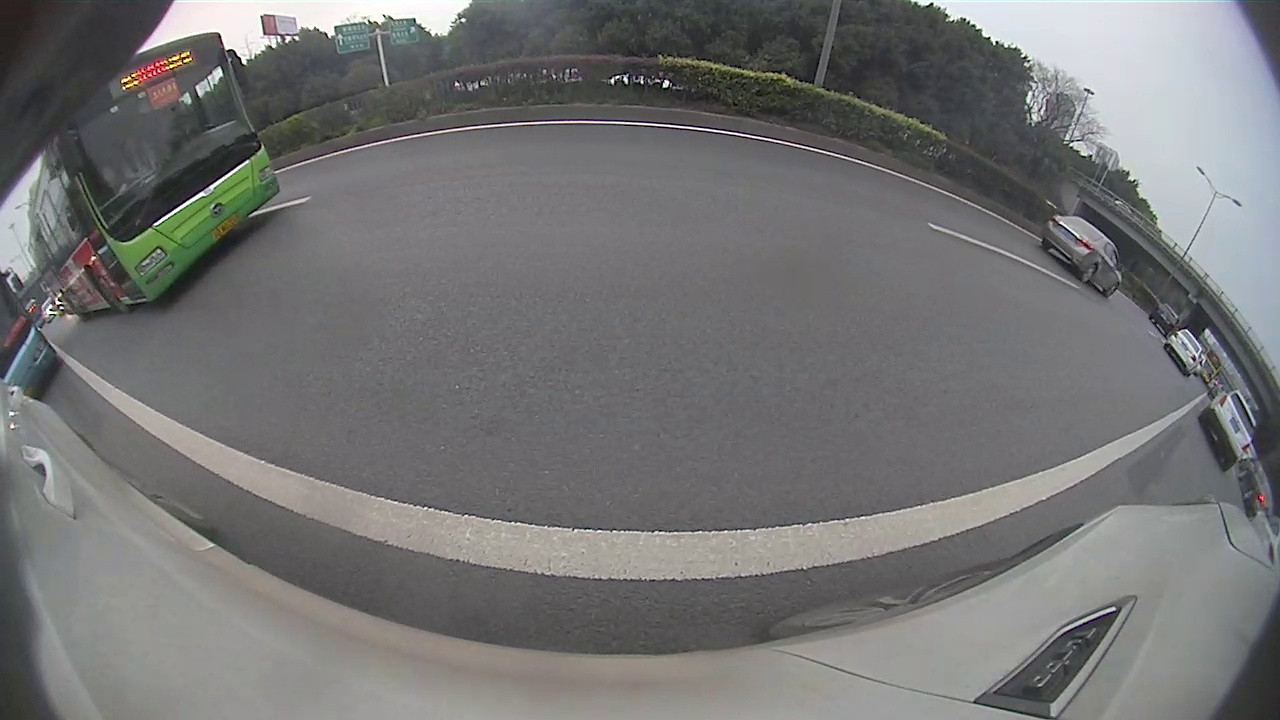bus: (29, 31, 280, 318)
car: (1044, 213, 1121, 299), (1198, 390, 1260, 473), (1161, 326, 1206, 380)
front: (90, 269, 130, 315), (1104, 283, 1119, 300)
rear: (1080, 263, 1098, 284)
